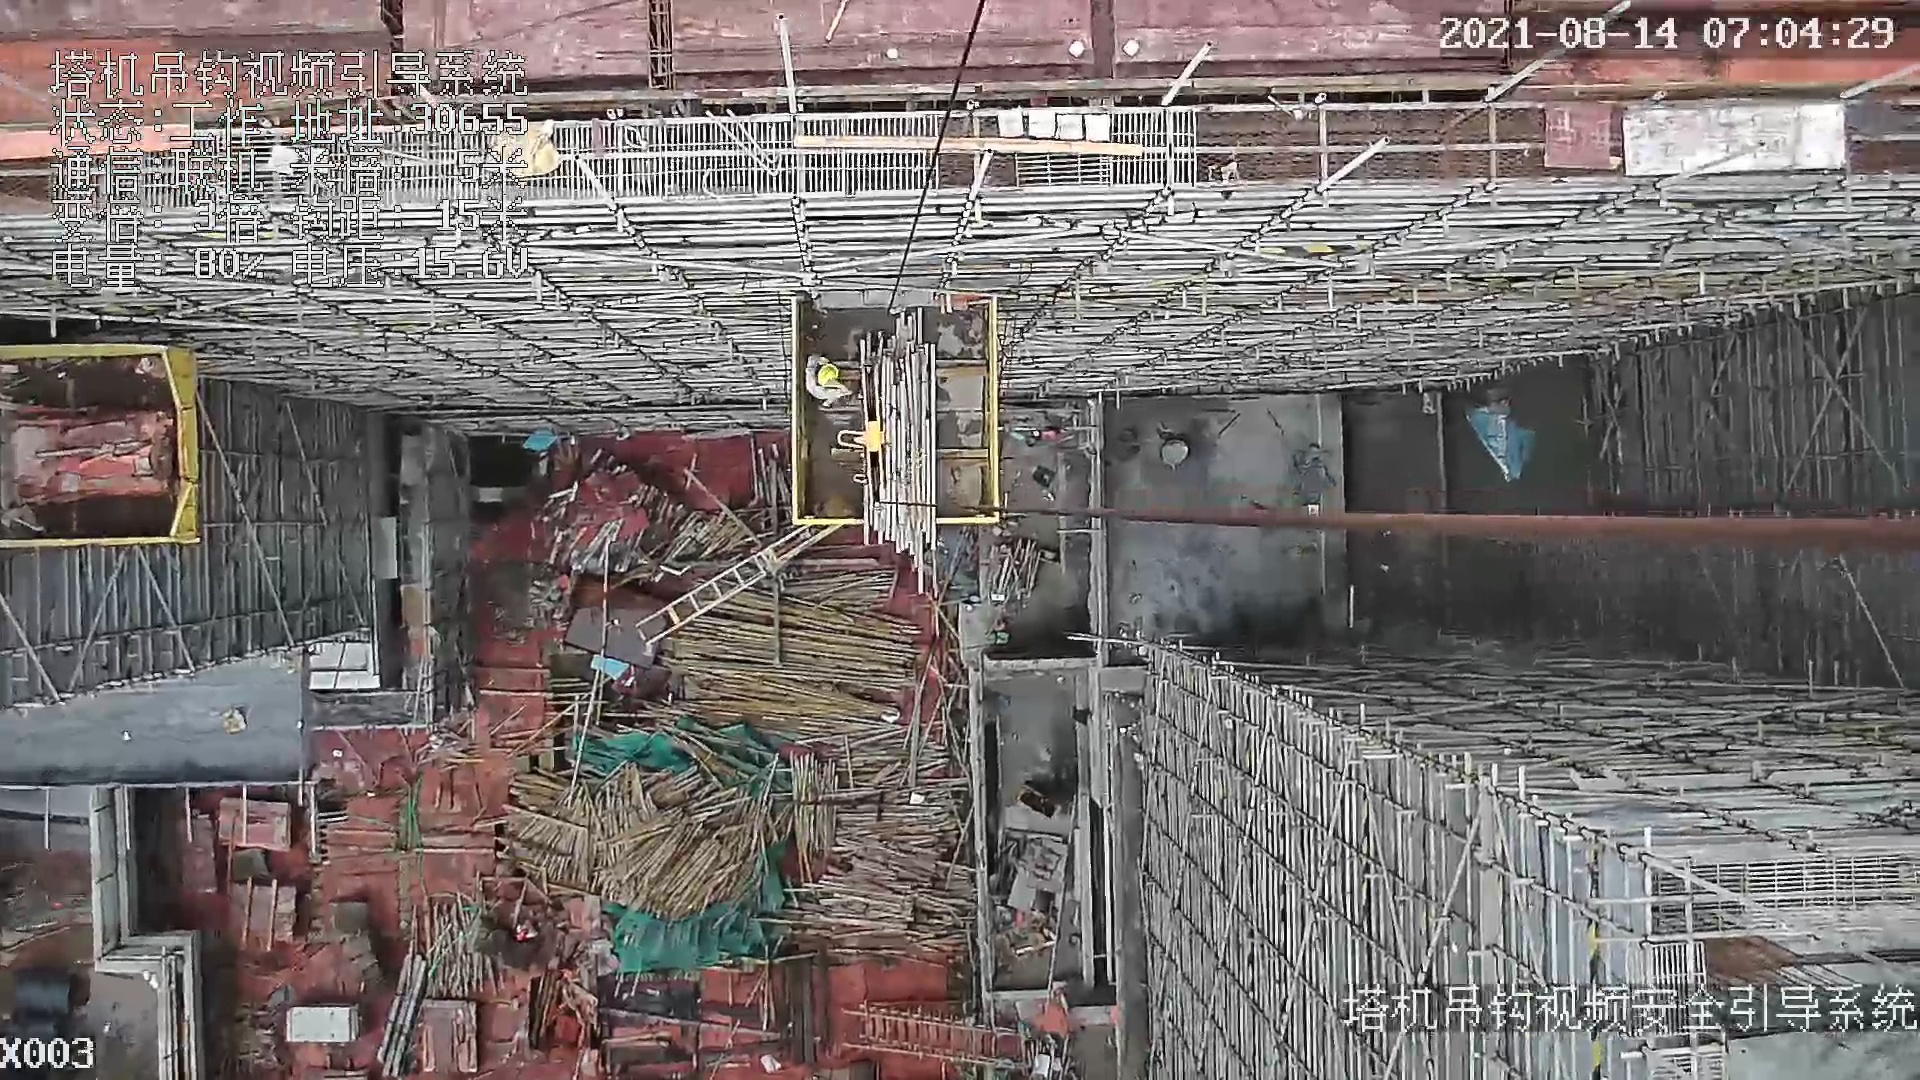hook: (840, 340, 900, 514)
person: (804, 358, 842, 410)
